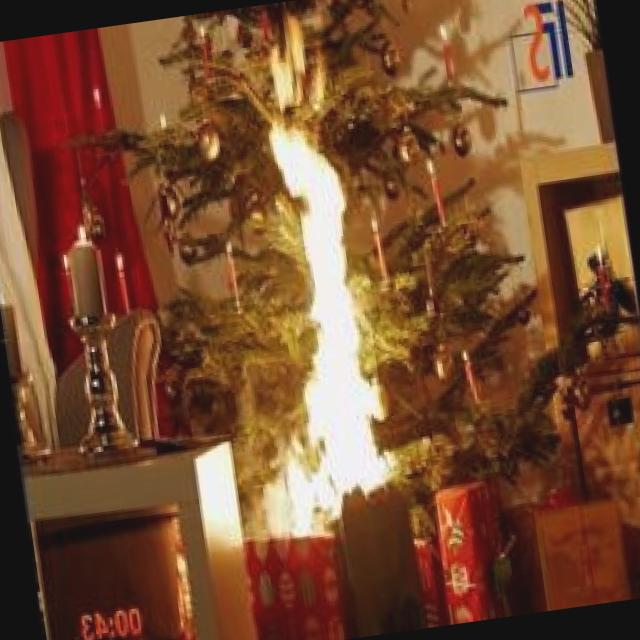fire: (186, 49, 416, 546)
